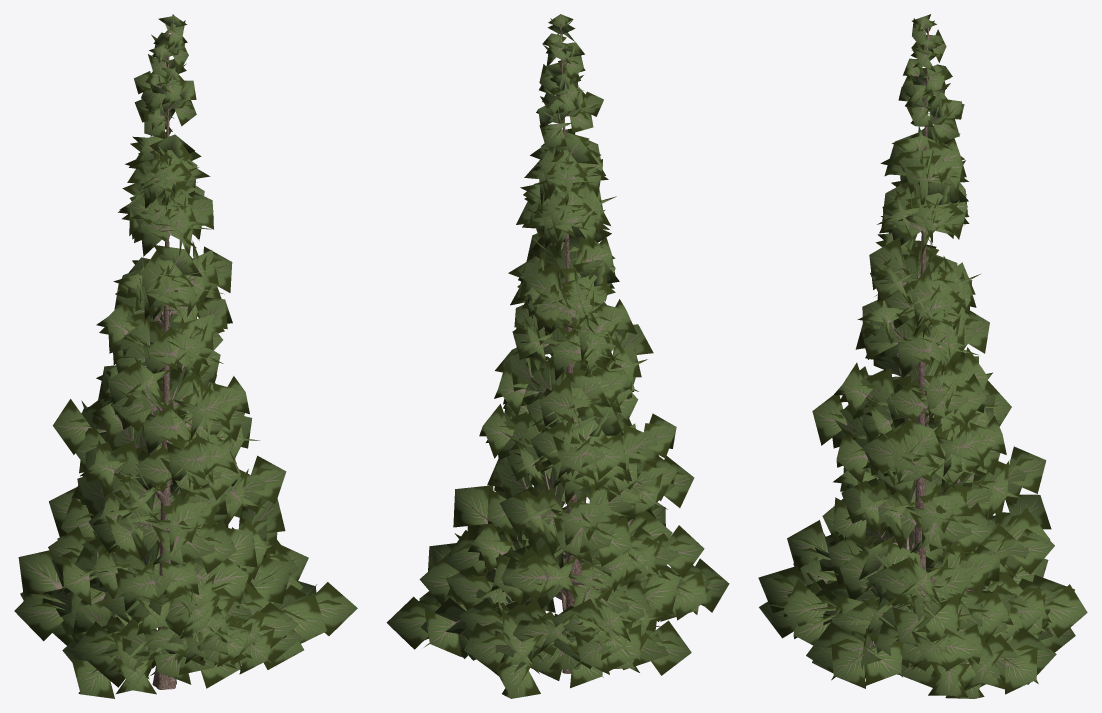
Rendered from fir-03.gltf.
3 views of the same model, side by side, from view 1: azimuth 30°, elevation 25°; view 2: azimuth 150°, elevation 25°; view 3: azimuth 270°, elevation 25° (orthographic).
Visible parts, largest first — view 1: fir-03; view 2: fir-03; view 3: fir-03.
Part boxes in pixels (<box>): fir-03: <box>14,14,357,698</box>; fir-03: <box>386,14,729,698</box>; fir-03: <box>758,14,1087,698</box>.
Bounding box in the file's own units: 447 × 1065 × 479.
Materials: 2 (2 with a texture image).
